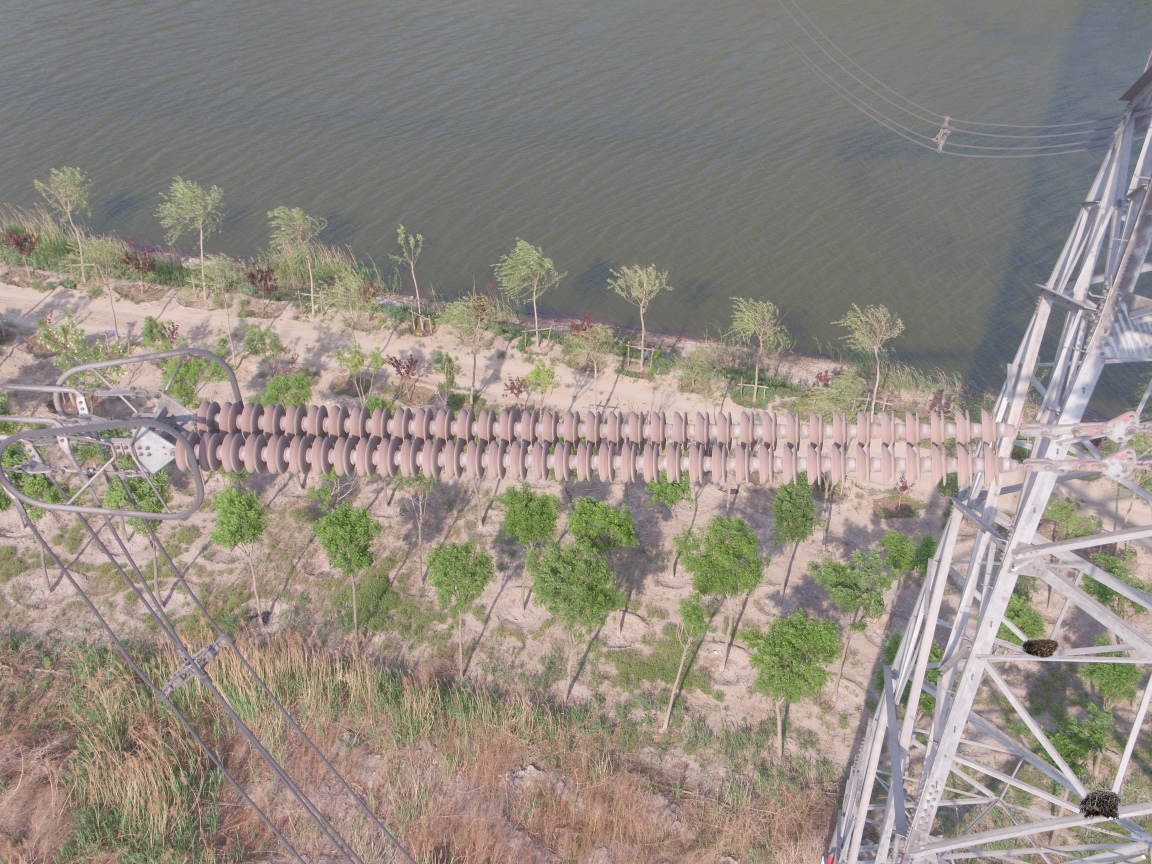nest: (1074, 790, 1125, 821), (1021, 637, 1061, 660)
